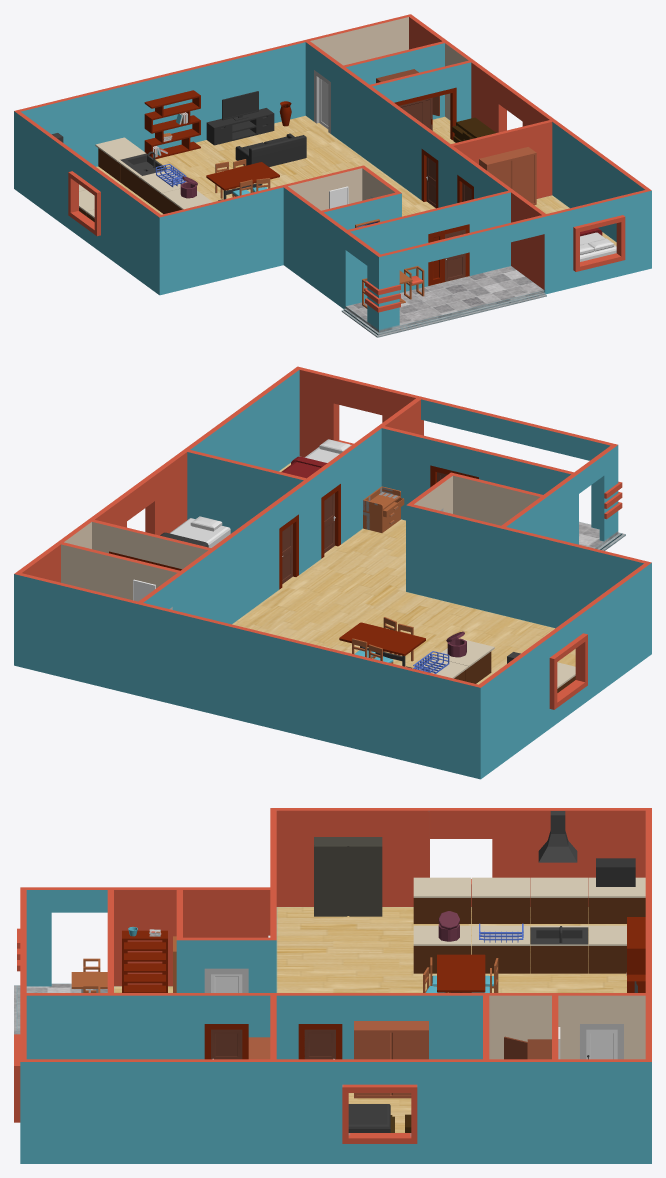
The model's file is Denah.fbx.
The picture shows the model from 3 angles, top to bottom: view 1: azimuth 30°, elevation 25°; view 2: azimuth 150°, elevation 25°; view 3: azimuth 270°, elevation 25°; orthographic projection. The views are drawn at different scales.
Parts seen in each view (by area): view 1: Dinding dan Lantai, Altar, Rak Buku, Lemari Ortu, Cube, Meja TV, Meja Makan, TV, Kusen Pintu Depan, Ornamen Rumah, Meja Belajar, Pintu Depan (+4 smaller); view 2: Dinding dan Lantai, Altar, Meja Makan, Meja Koridor, Kasur Ortu, Kasur, Kusen Pintu Kamar Orang Tua, Kusen Pintu Kamar Kakak; view 3: Dinding dan Lantai, Altar, Kulkas, Lemari, Rak Sepatu, Meja Makan, Rak Buku, Kasur Ortu, Smoke, Oven, Altar.001, Pintu Kamar Orang Tua (+10 smaller).
Part boxes in pixels (left/top/right/bottom): Dinding dan Lantai: left=14, top=14, right=651, bottom=337; Altar: left=79, top=137, right=212, bottom=221; Rak Buku: left=144, top=90, right=200, bottom=159; Lemari Ortu: left=479, top=147, right=536, bottom=205; Cube: left=235, top=133, right=306, bottom=166; Meja TV: left=206, top=108, right=274, bottom=145; Meja Makan: left=206, top=162, right=279, bottom=190; TV: left=222, top=91, right=258, bottom=120; Kusen Pintu Depan: left=428, top=224, right=469, bottom=285; Ornamen Rumah: left=365, top=281, right=400, bottom=312; Meja Belajar: left=452, top=117, right=495, bottom=142; Pintu Depan: left=445, top=229, right=465, bottom=281; Dinding dan Lantai: left=14, top=366, right=651, bottom=779; Altar: left=419, top=639, right=575, bottom=692; Meja Makan: left=339, top=622, right=425, bottom=655; Meja Koridor: left=363, top=486, right=400, bottom=532; Kasur Ortu: left=160, top=518, right=230, bottom=547; Kasur: left=281, top=447, right=339, bottom=478; Kusen Pintu Kamar Orang Tua: left=321, top=484, right=340, bottom=558; Kusen Pintu Kamar Kakak: left=279, top=514, right=298, bottom=589; Dinding dan Lantai: left=14, top=808, right=651, bottom=1163; Altar: left=413, top=877, right=645, bottom=973; Kulkas: left=314, top=837, right=382, bottom=916; Lemari: left=354, top=1021, right=428, bottom=1098; Rak Sepatu: left=122, top=930, right=167, bottom=992; Meja Makan: left=437, top=954, right=485, bottom=992; Rak Buku: left=627, top=917, right=645, bottom=992; Kasur Ortu: left=348, top=1104, right=394, bottom=1132; Smoke: left=538, top=811, right=577, bottom=862; Oven: left=596, top=858, right=635, bottom=886; Altar.001: left=504, top=1036, right=551, bottom=1059; Pintu Kamar Orang Tua: left=211, top=1029, right=242, bottom=1059.
Bounding box in the file's own units: 1633 × 300 × 1700.
